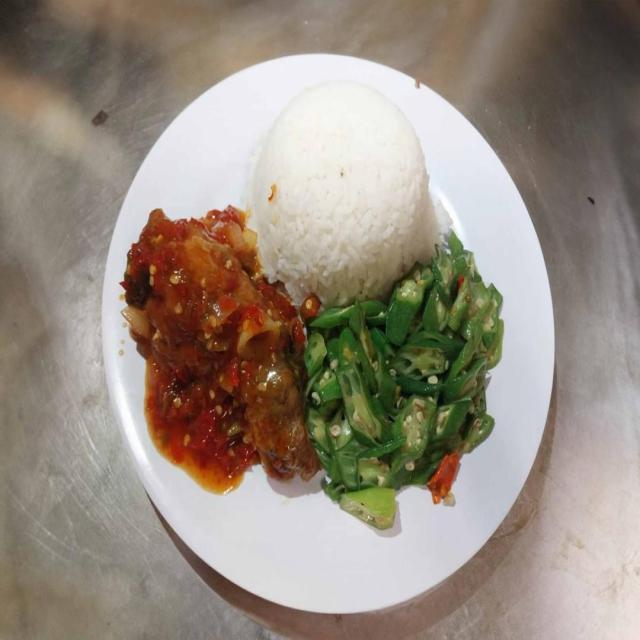Chicken: (131, 207, 327, 476)
Plate: (103, 54, 553, 613)
Rice: (249, 82, 437, 292)
Vegetables: (308, 230, 501, 529)
